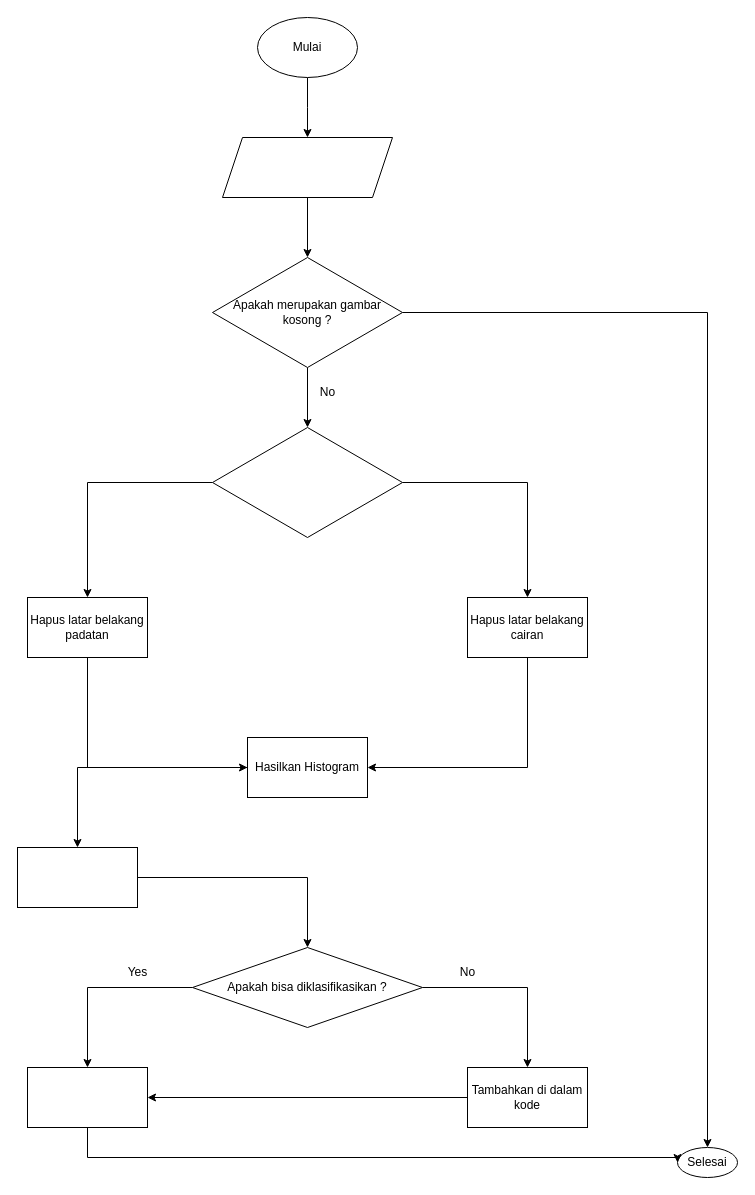
The diagram is 755 pixels wide and 1195 high, and some of its shapes have lost their labels. The shapes that lost their labels are listed below. From the top down, each one's box as (x1, y1, x2, y2) in pixels, then its label:
(222, 136, 392, 198): Ambil foto makanan/ minuman
(212, 426, 402, 538): Apakah yang dimasukkan padat ?
(16, 846, 138, 908): Klasifikasi Makanan berdasarkan kode yang telah dibuat
(26, 1066, 148, 1128): Rekomendasi temperatur
